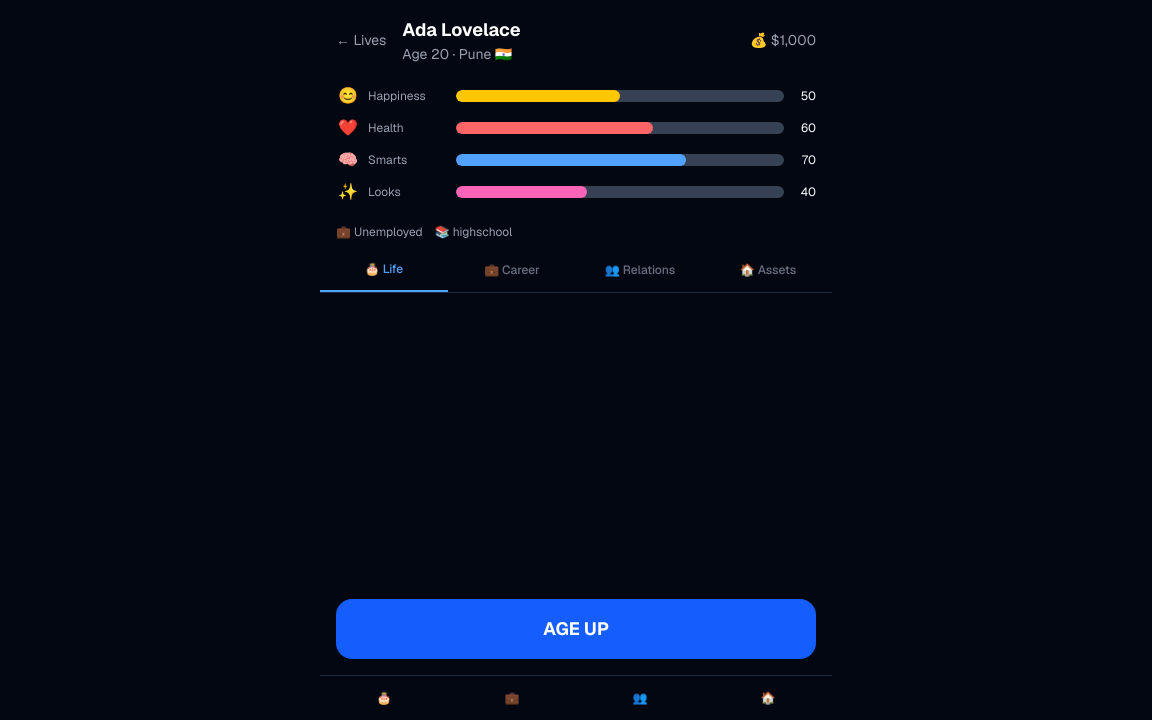
it: GameDashboard › shows the event from a 409 response
Click the button "AGE UP" at [576, 629], box 336,599 -> 816,659
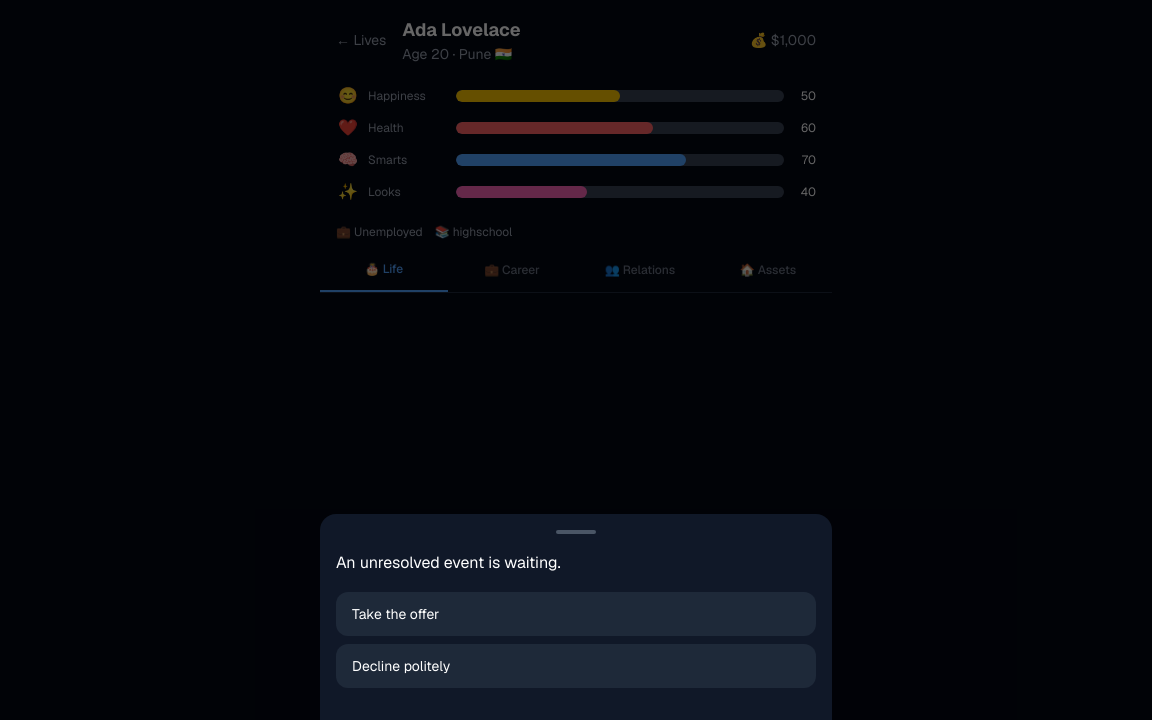
Expected: the text "An unresolved event is waiting." is shown, 336,552 -> 561,573
